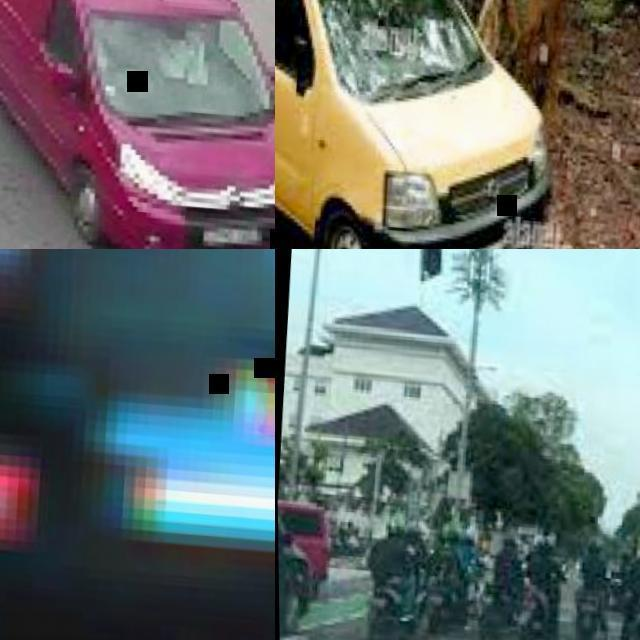car: (276, 0, 554, 246), (0, 0, 273, 245)
